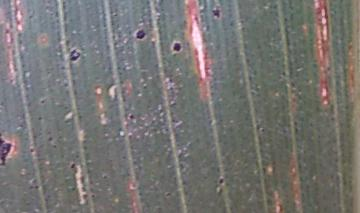tarspot: (1, 133, 14, 171), (209, 2, 224, 22), (68, 45, 82, 66), (168, 38, 184, 56), (132, 27, 148, 43), (26, 181, 44, 194), (217, 173, 226, 187), (126, 111, 136, 123), (67, 161, 78, 170), (38, 97, 47, 107), (28, 145, 36, 154), (164, 191, 172, 199)
